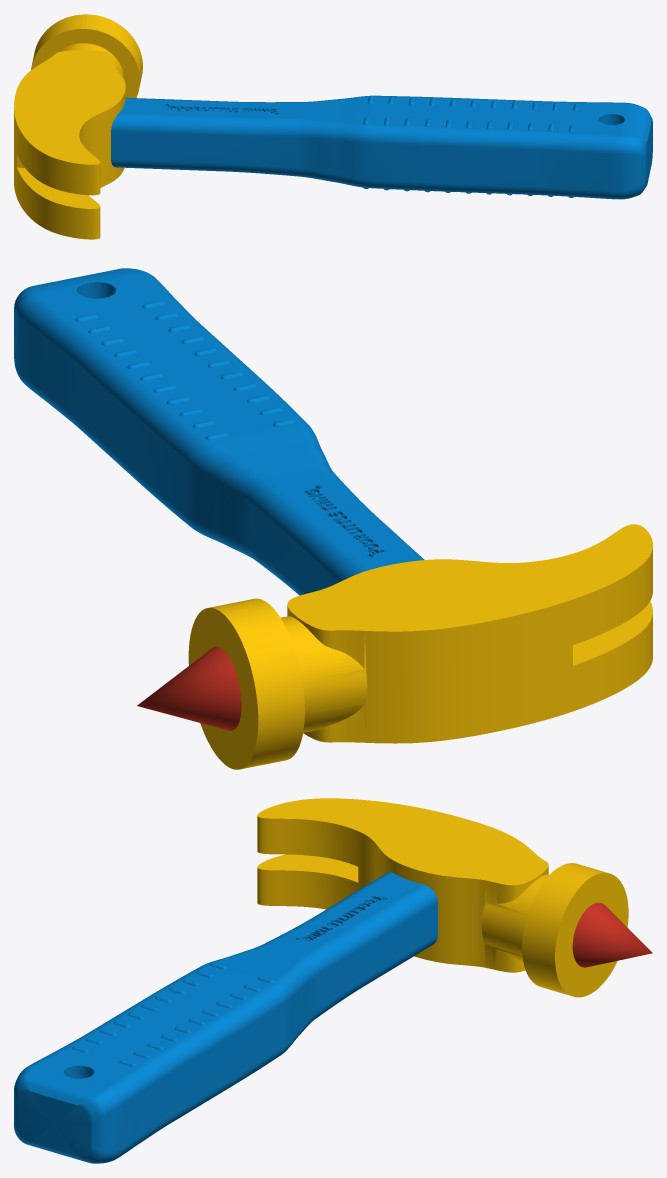
Rendered from claw-hammer.glb.
3 renders of one model, top to bottom at view 1: azimuth 30°, elevation 25°; view 2: azimuth 150°, elevation 25°; view 3: azimuth 270°, elevation 25°, orthographic. The views are drawn at different scales.
Visible parts, largest first — view 1: claw-hammer-part-002, claw-hammer-part-001; view 2: claw-hammer-part-001, claw-hammer-part-002, claw-hammer-part-003; view 3: claw-hammer-part-002, claw-hammer-part-001, claw-hammer-part-003.
Part boxes in pixels (left/top/right/bottom): claw-hammer-part-002: left=111, top=95, right=652, bottom=199; claw-hammer-part-001: left=14, top=14, right=142, bottom=239; claw-hammer-part-001: left=188, top=524, right=652, bottom=769; claw-hammer-part-002: left=14, top=268, right=424, bottom=595; claw-hammer-part-003: left=137, top=646, right=241, bottom=730; claw-hammer-part-002: left=14, top=872, right=437, bottom=1163; claw-hammer-part-001: left=257, top=798, right=628, bottom=997; claw-hammer-part-003: left=572, top=902, right=652, bottom=967.
Bounding box in the file's own units: 3 × 0.5565 × 2.77.
